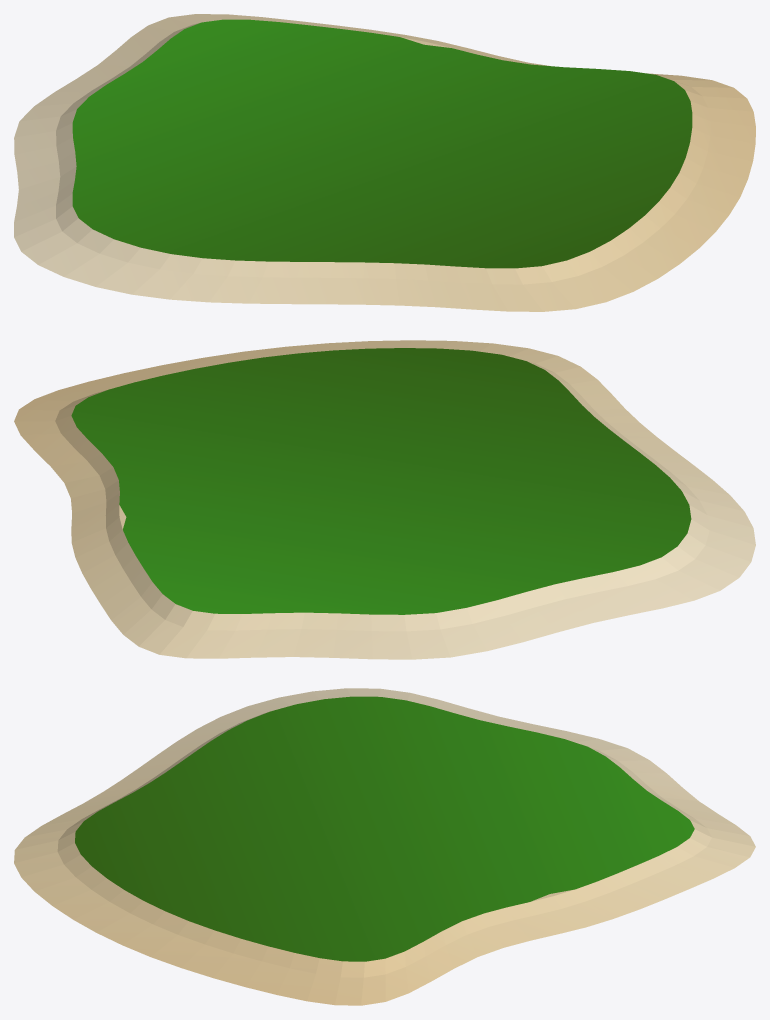
File: Ground_piece_var_3.glb
3 views of the same model, one above another, from view 1: azimuth 30°, elevation 25°; view 2: azimuth 150°, elevation 25°; view 3: azimuth 270°, elevation 25° (orthographic). The views are drawn at different scales.
Parts seen in each view (by area): view 1: Plane; view 2: Plane; view 3: Plane.
Part boxes in pixels (x1,y1,x2,y2): Plane: (14, 14, 755, 311); Plane: (14, 340, 755, 659); Plane: (14, 688, 755, 1005).
Size of the model in its own units: 44.93 by 1.17 by 44.37.
Materials: 1 (1 with a texture image).
